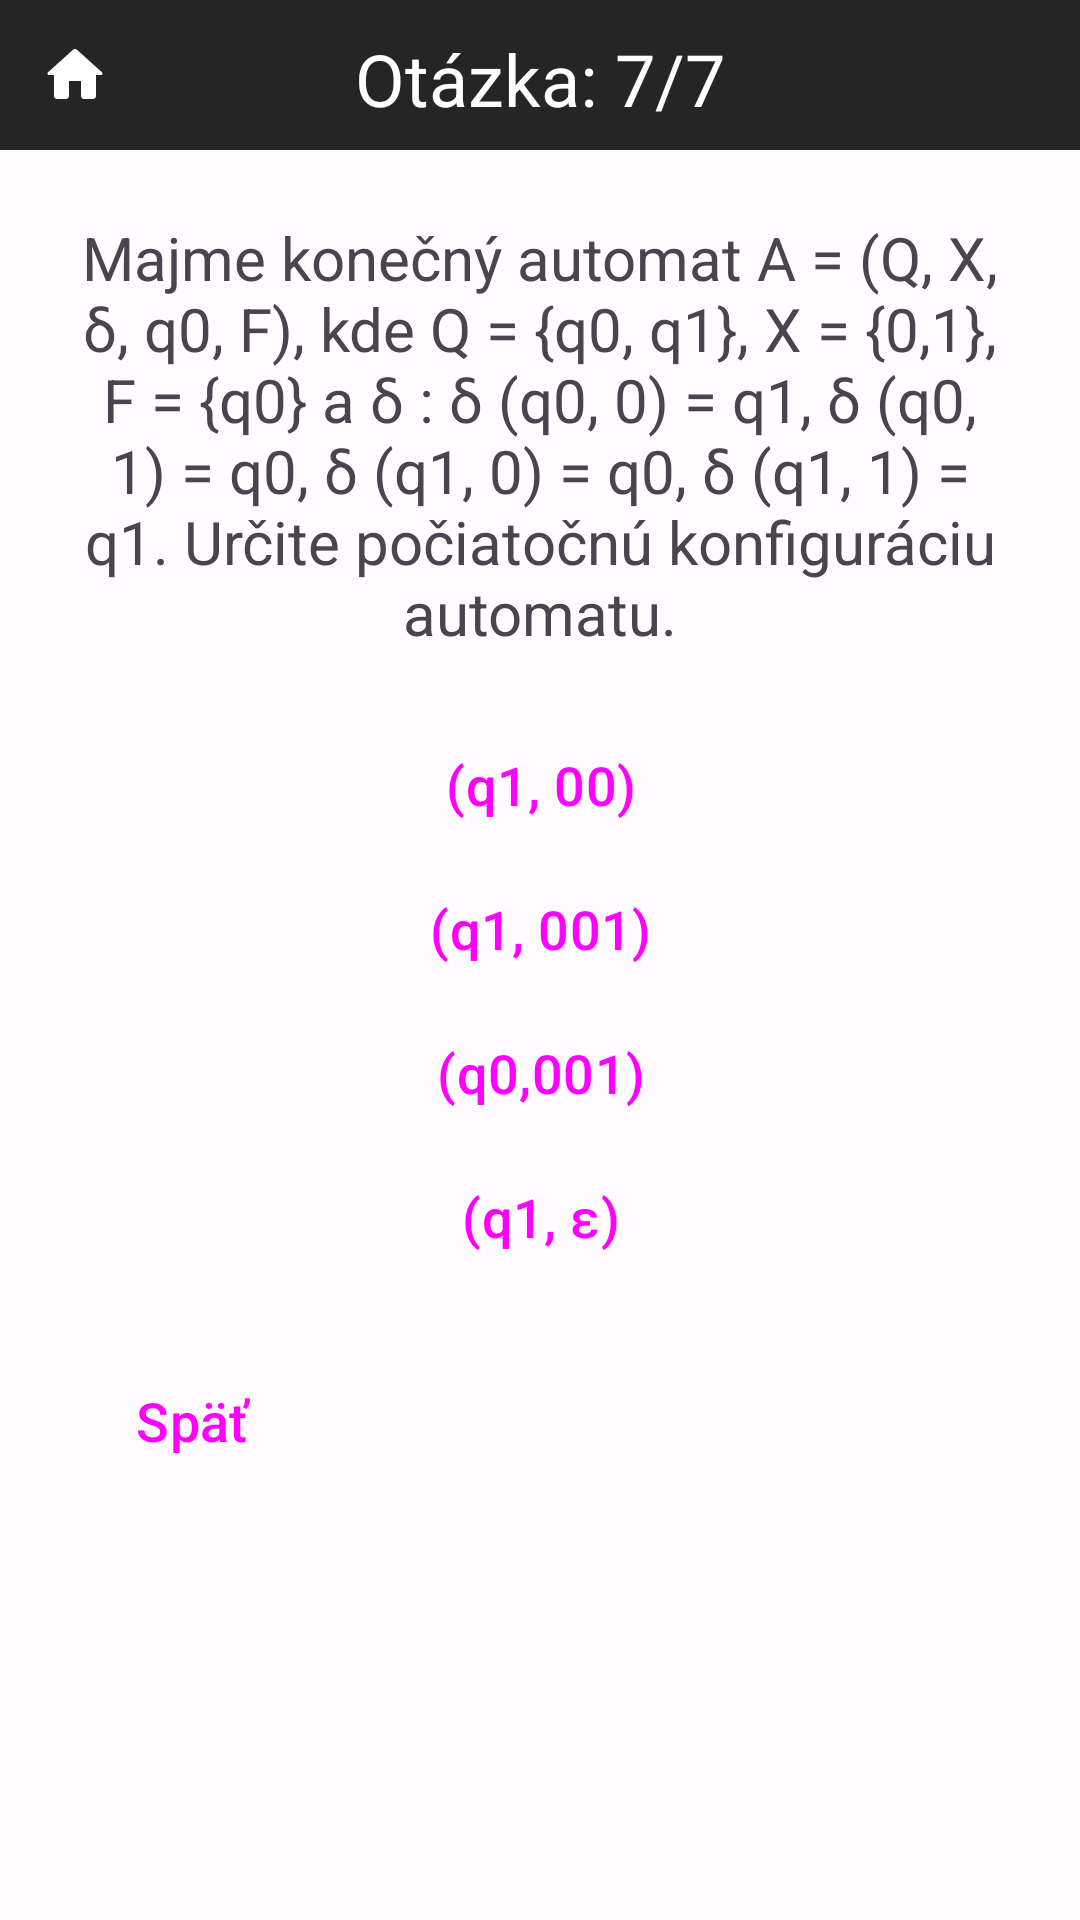

Point at icon controls on the screen. Image size 1080*1920, points as (x,y).
domov: (75,74)
